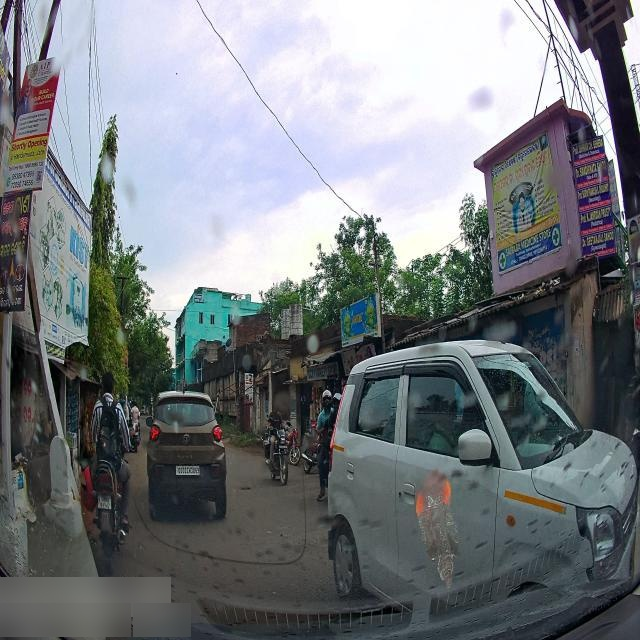pothole: (238, 481, 254, 493)
